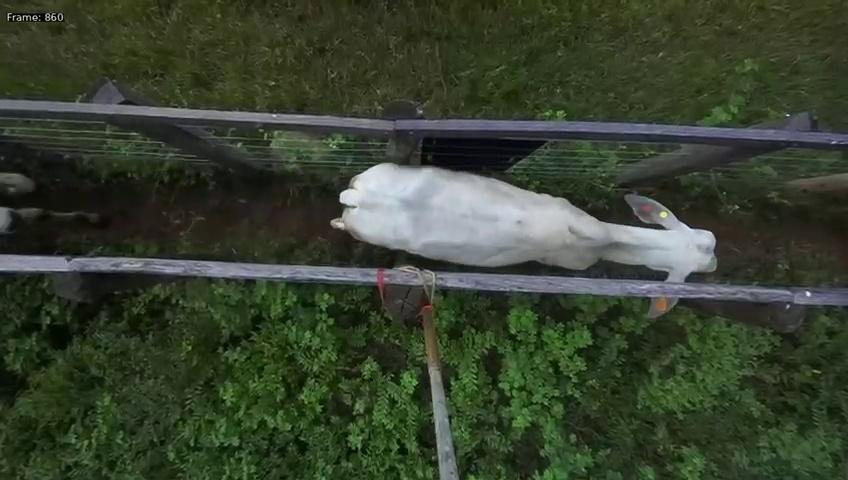cattle: (329, 125, 718, 281)
